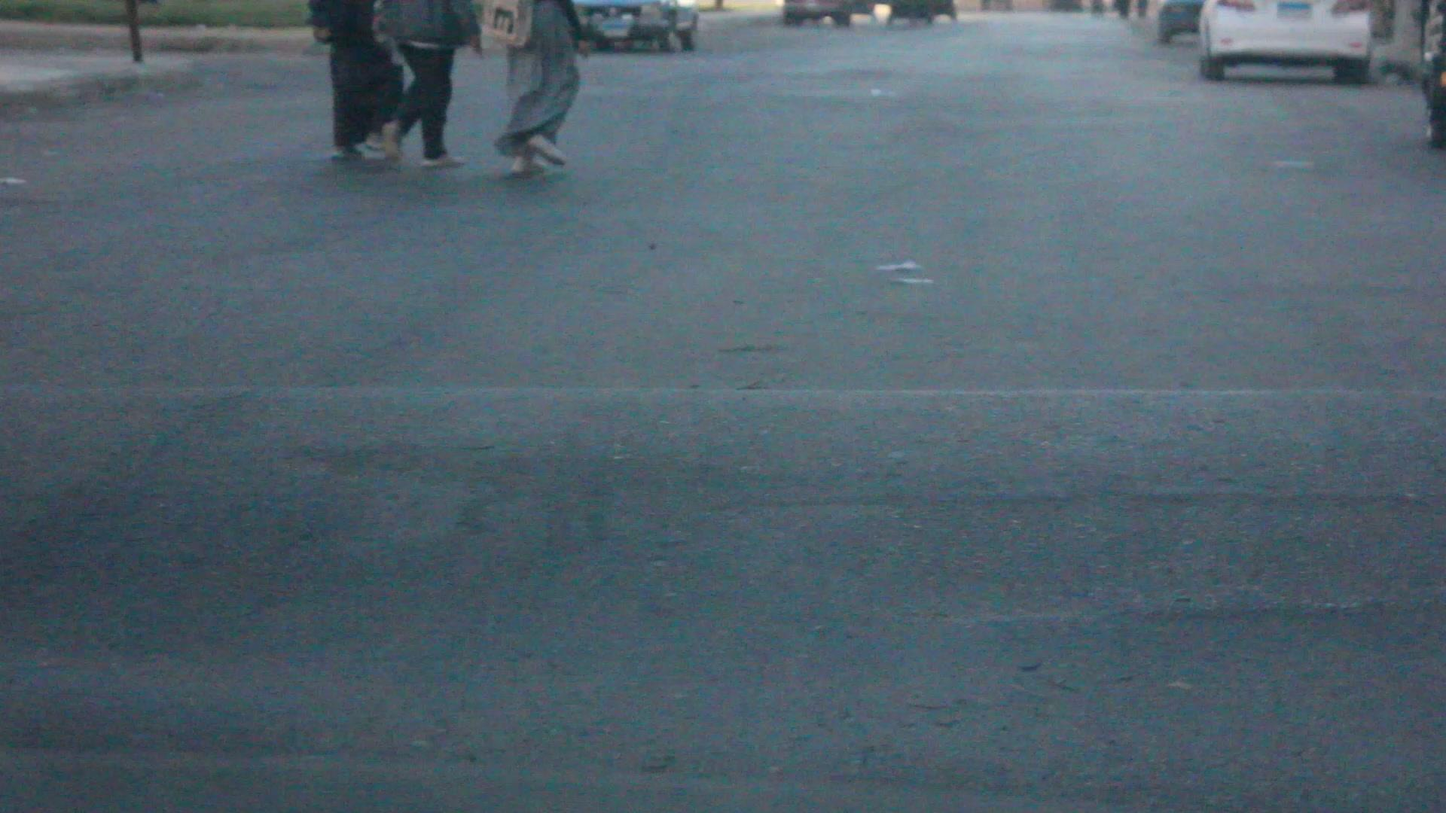Bump: (0, 367, 1446, 661)
